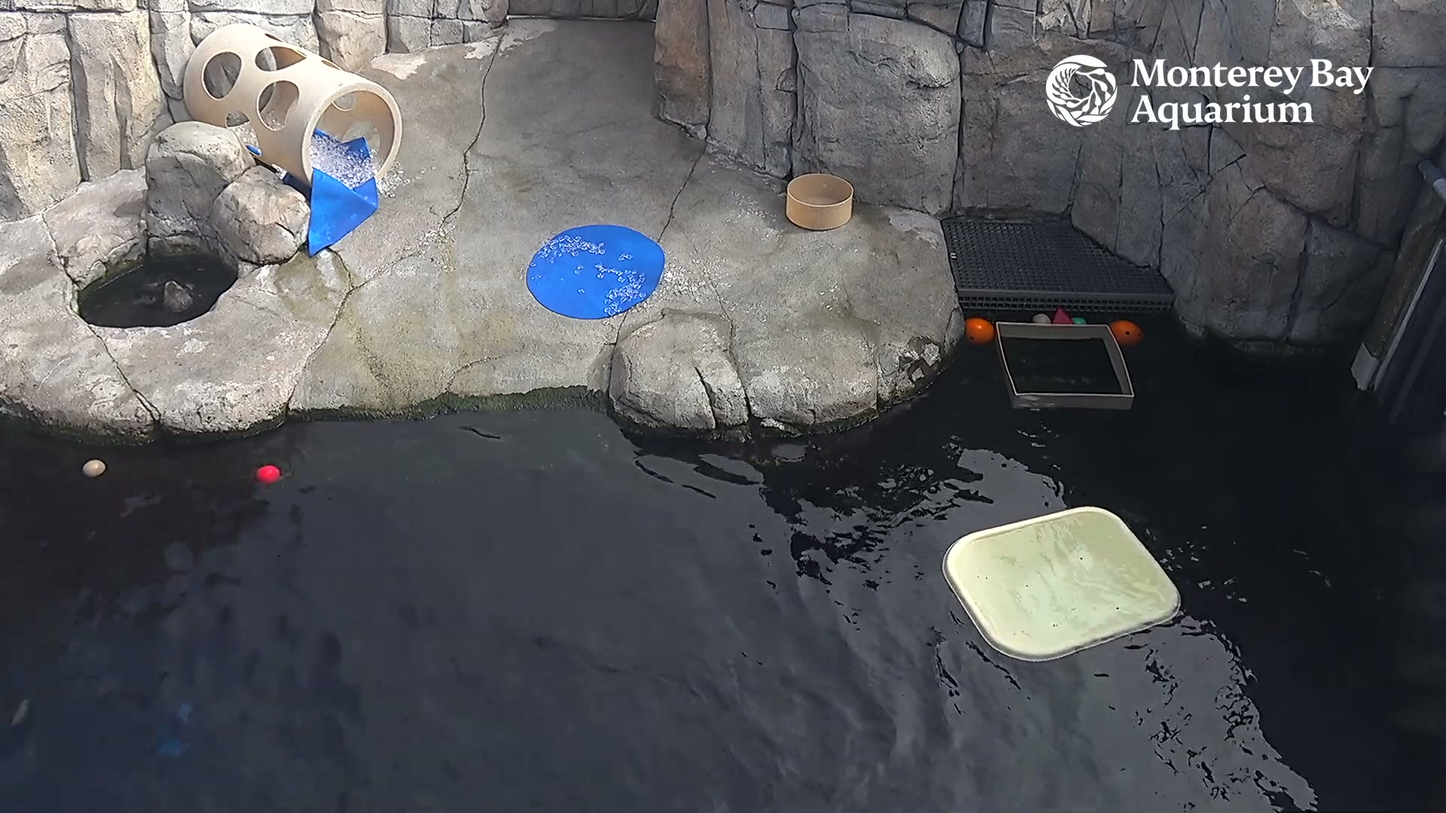Southern Sea Otter: (141, 258, 206, 316)
